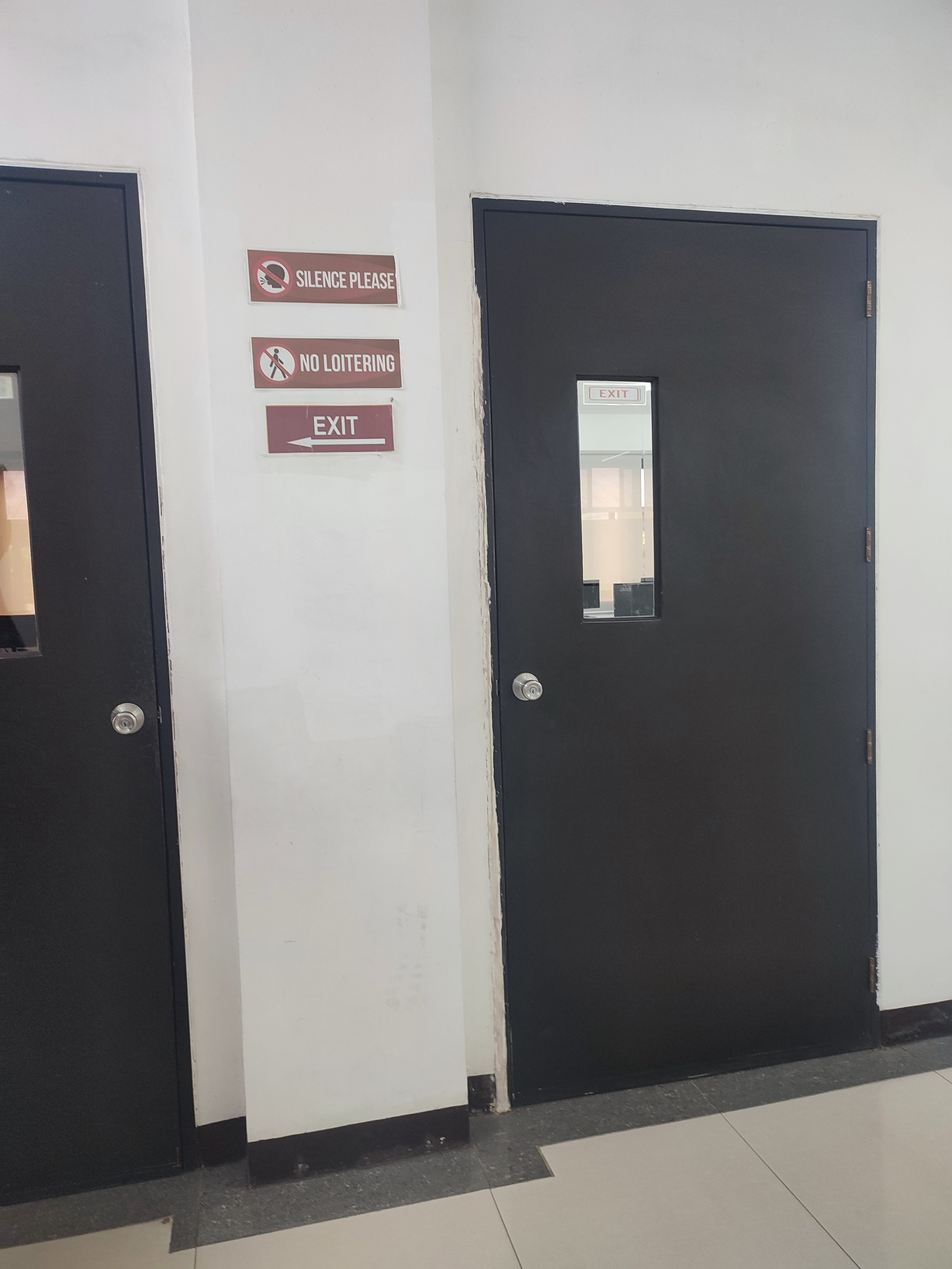door: (472, 201, 885, 1113), (0, 168, 192, 1212)
